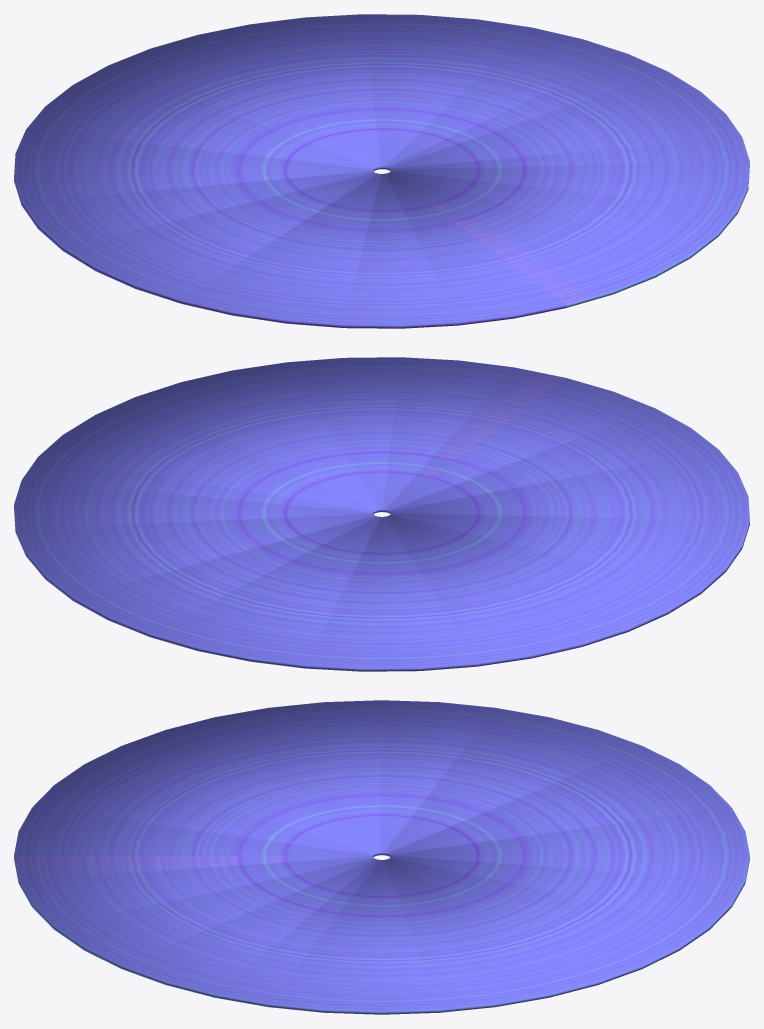
File: Record.fbx
3 views of the same model, one above another, from view 1: azimuth 30°, elevation 25°; view 2: azimuth 150°, elevation 25°; view 3: azimuth 270°, elevation 25° (orthographic).
Parts seen in each view (by area): view 1: MappedRecordP.003; view 2: MappedRecordP.003; view 3: MappedRecordP.003.
Part boxes in pixels (bbox=[...]): MappedRecordP.003: bbox=[14, 14, 749, 328]; MappedRecordP.003: bbox=[14, 357, 749, 671]; MappedRecordP.003: bbox=[14, 700, 749, 1014].
Size of the model in its own units: 28.59 by 28.59 by 0.1493.
